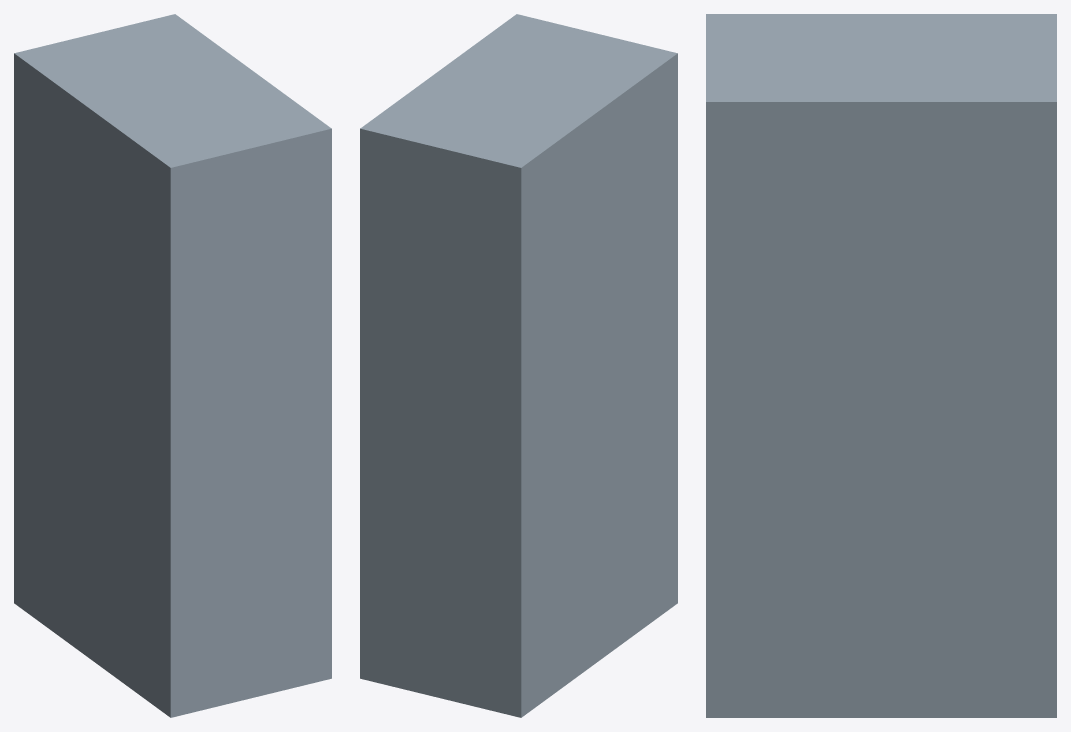
File: livro_4.glb
3 views of the same model, side by side, from view 1: azimuth 30°, elevation 25°; view 2: azimuth 150°, elevation 25°; view 3: azimuth 270°, elevation 25° (orthographic). The views are drawn at different scales.
Visible parts, largest first — view 1: Livro; view 2: Livro; view 3: Livro.
Part boxes in pixels (bbox=[...]): Livro: bbox=[14, 14, 331, 717]; Livro: bbox=[360, 14, 677, 717]; Livro: bbox=[706, 14, 1056, 717].
Size of the model in its own units: 0.19 by 0.62 by 0.32.
